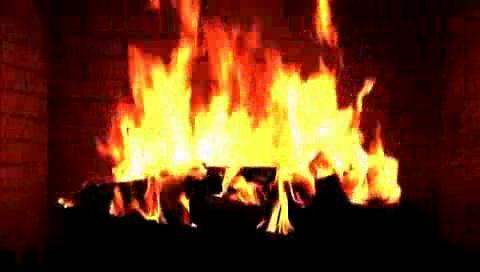fire: (89, 0, 413, 233)
